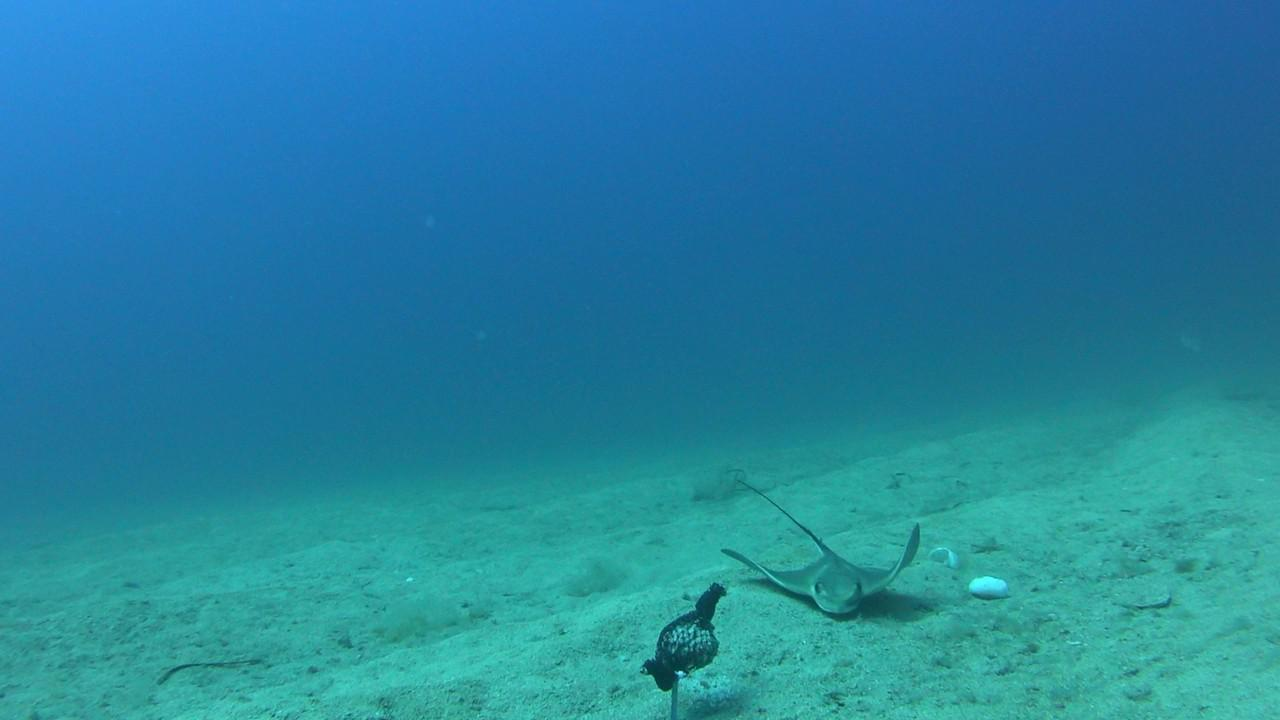myliobatis: (710, 459, 939, 618)
